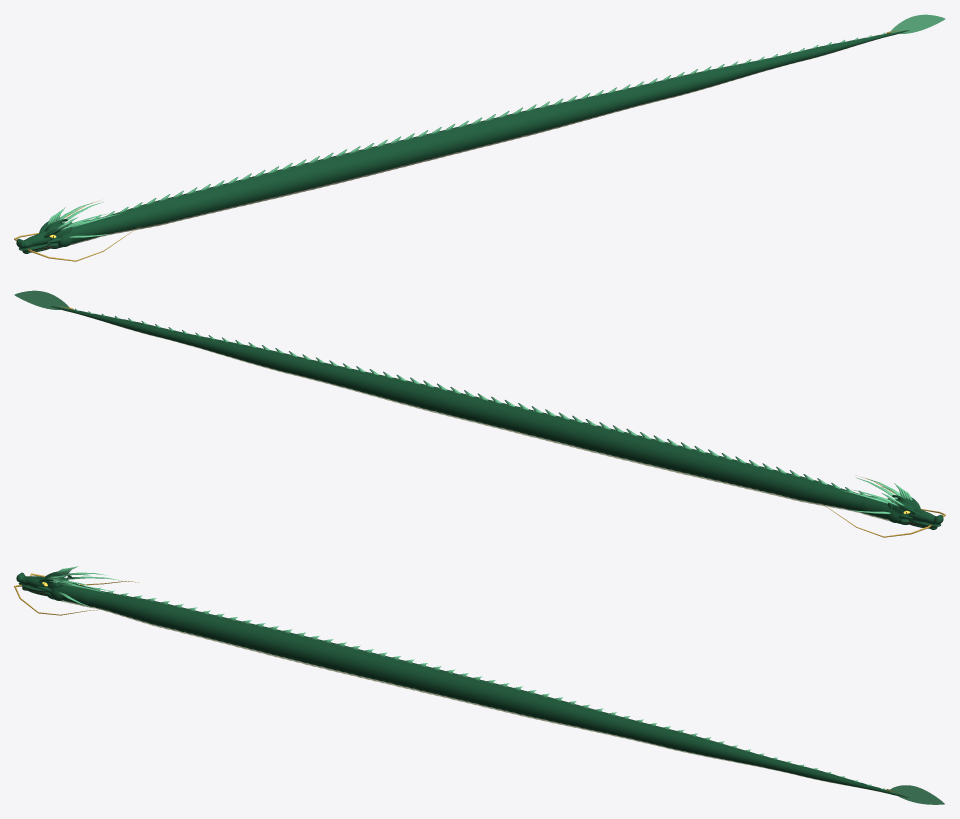
File: jade.glb
3 views of the same model, one above another, from view 1: azimuth 30°, elevation 25°; view 2: azimuth 150°, elevation 25°; view 3: azimuth 330°, elevation 25° (orthographic).
Visible parts, largest first — view 1: dragon_jade; view 2: dragon_jade; view 3: dragon_jade.
Part boxes in pixels (x1,y1,x2,y2): dragon_jade: (14, 14, 945, 261); dragon_jade: (14, 290, 945, 537); dragon_jade: (14, 566, 944, 804).
Size of the model in its own units: 20.53 by 0.7426 by 1.66.
